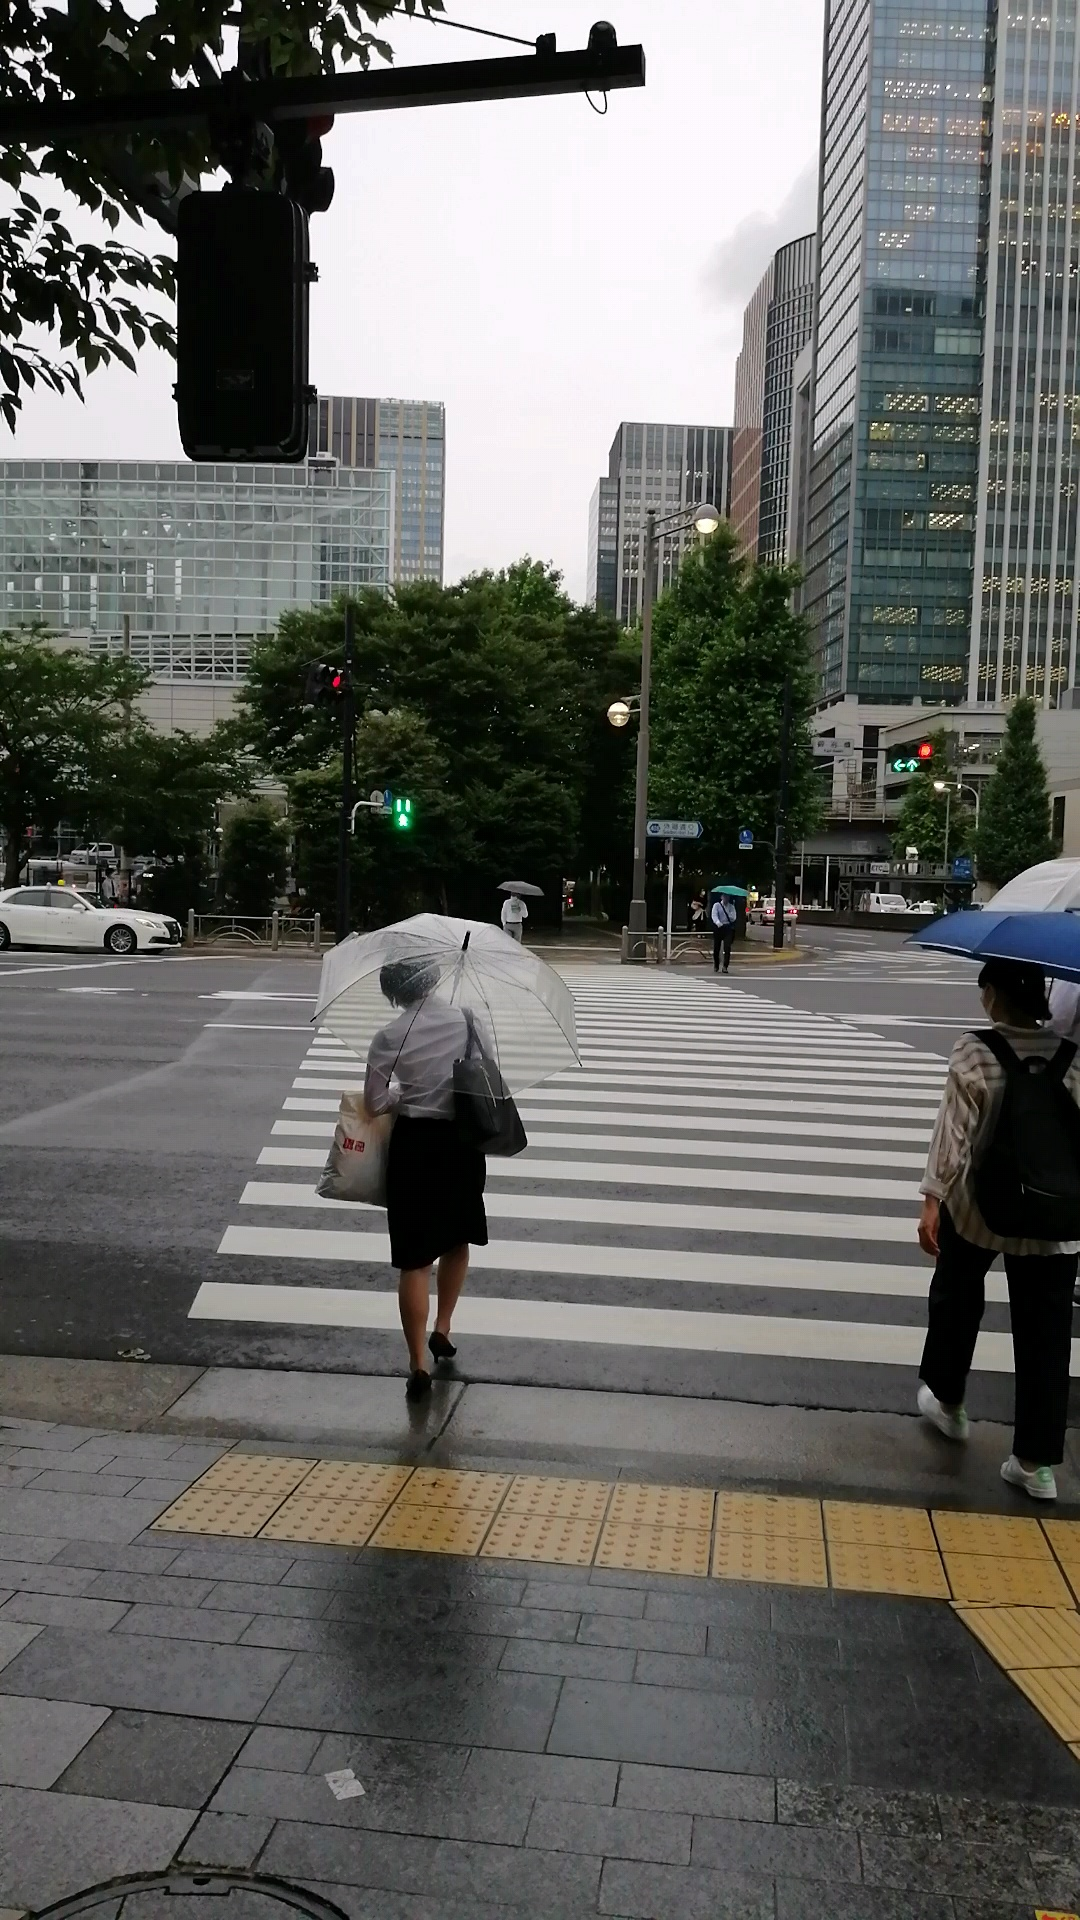green: (390, 793, 414, 832)
